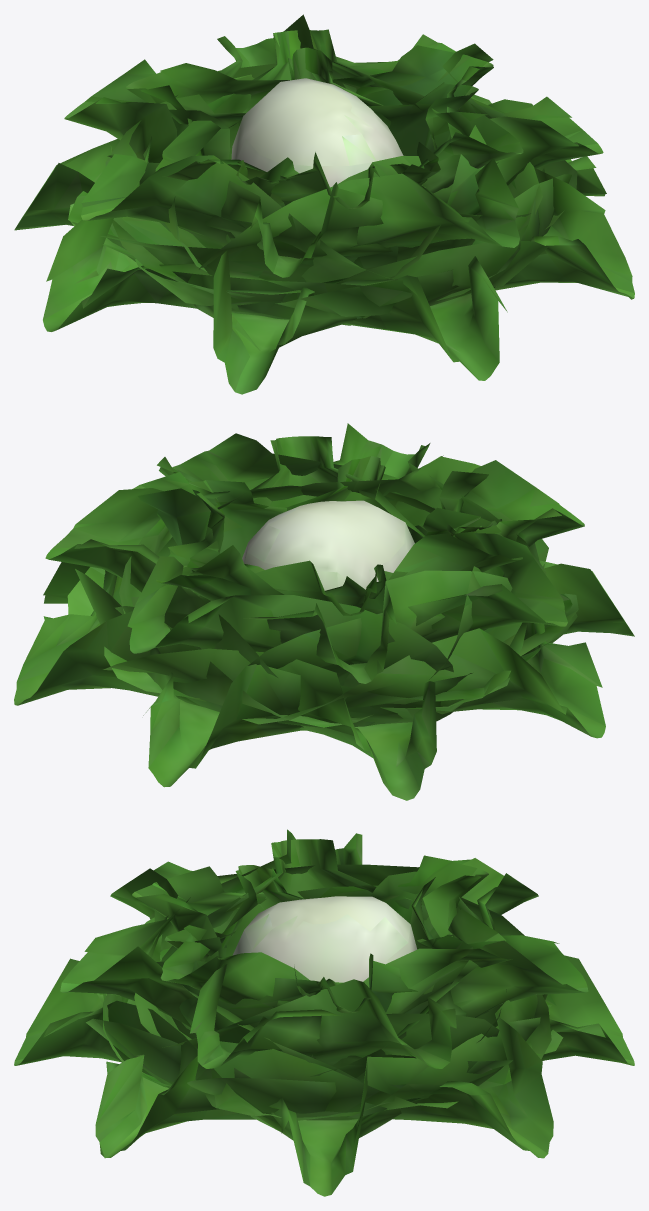
File: crop_bok_choy.glb
The picture shows the model from 3 angles, top to bottom: view 1: azimuth 30°, elevation 25°; view 2: azimuth 150°, elevation 25°; view 3: azimuth 270°, elevation 25°; orthographic projection. The views are drawn at different scales.
Visible parts, largest first — view 1: crop_bok_choy, fruit; view 2: crop_bok_choy, fruit; view 3: crop_bok_choy, fruit.
Boxes of the visible parts, x1,y1,x2,y2 form: crop_bok_choy: (14,14,634,394); fruit: (231,78,403,187); crop_bok_choy: (14,423,634,800); fruit: (242,500,414,590); crop_bok_choy: (14,829,634,1196); fruit: (232,896,417,982).
Size of the model in its own units: 0.2435 by 0.0936 by 0.2435.
1 material, 1 textured.
